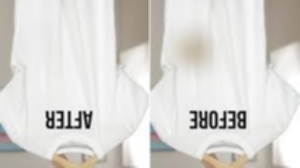oil: (176, 32, 215, 74)
